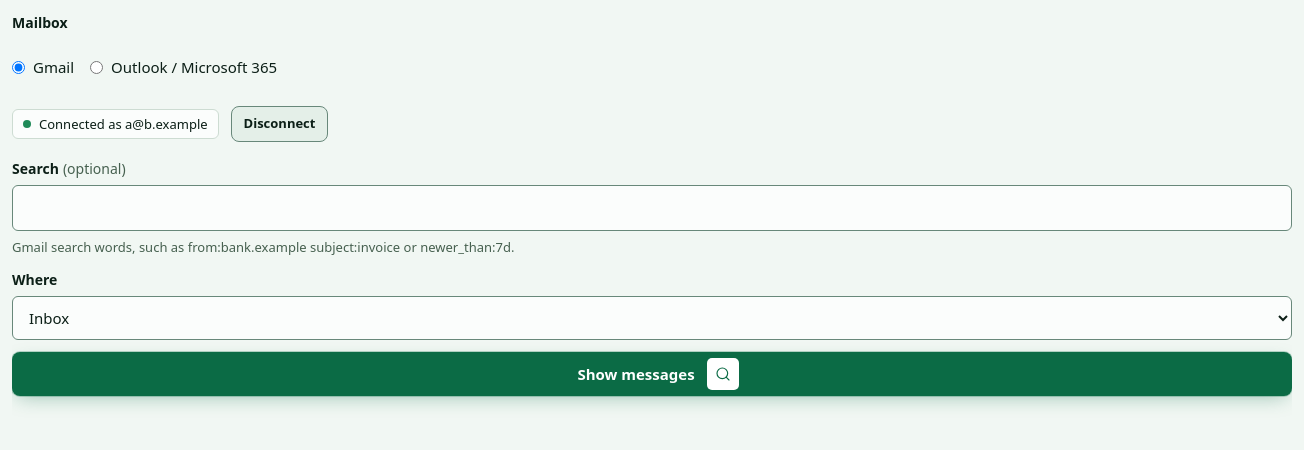
mailbox panel › empty results say so
The image size is (1304, 450).
Click the button "Show messages". click: click(652, 374)
box: [12,352,1292,396]
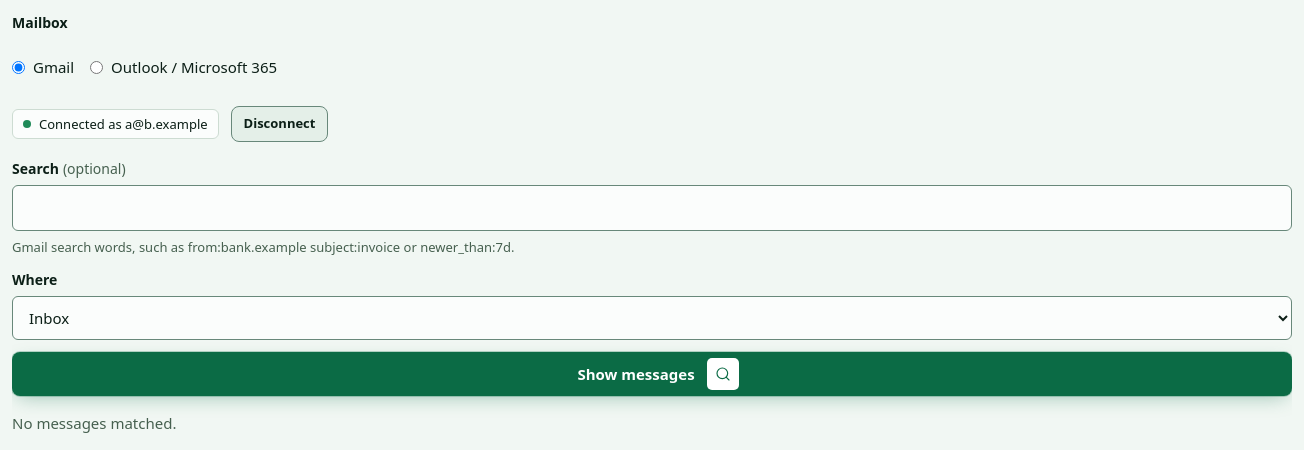
Expected: the text "No messages matched." is shown, [12,414,176,434]
